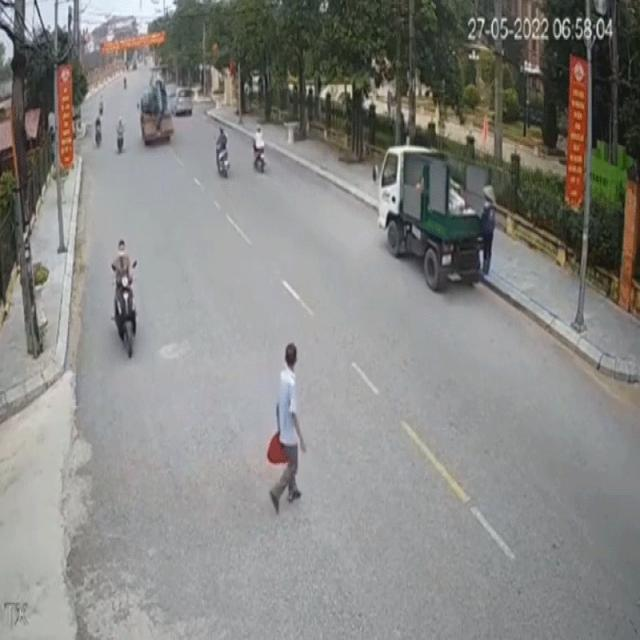normal: (367, 127, 500, 306), (93, 230, 150, 359), (203, 119, 286, 193)
